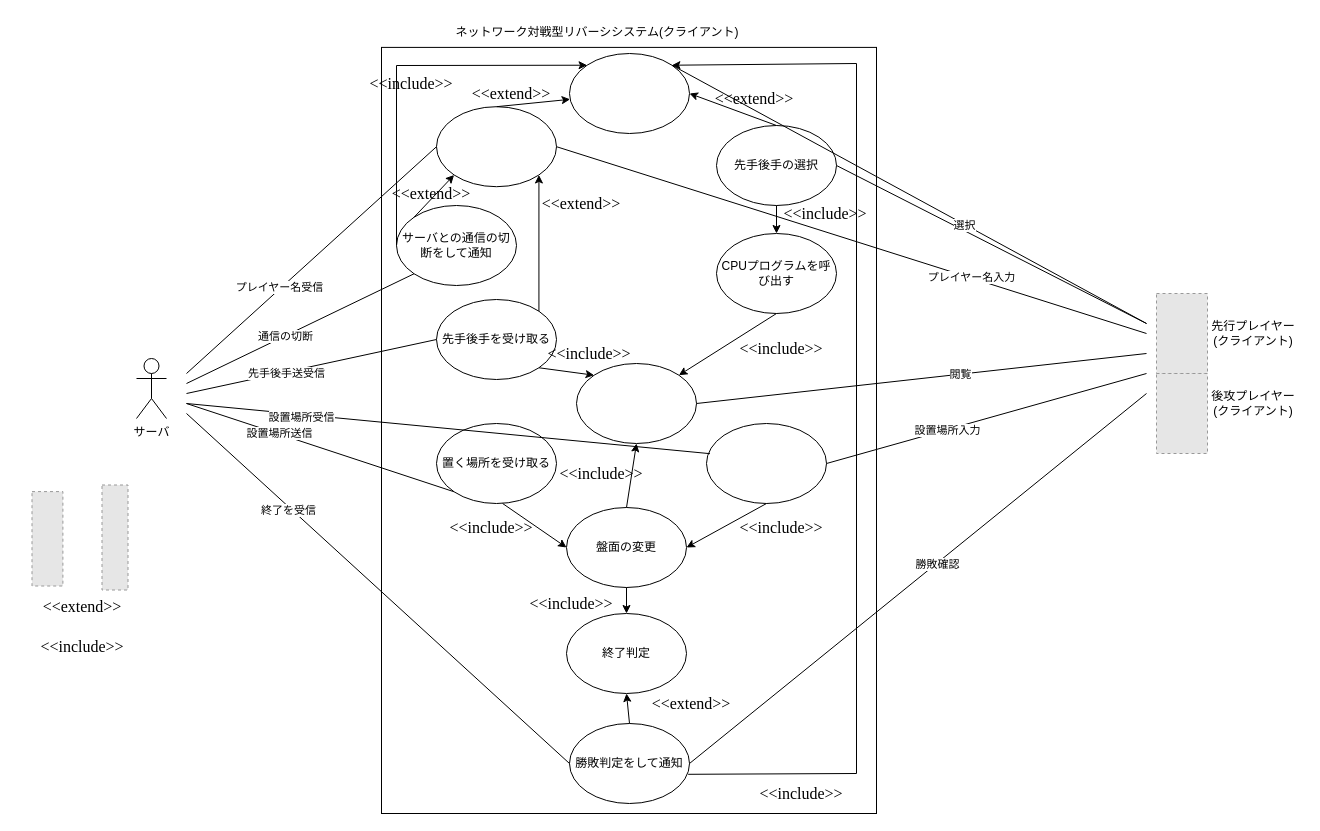
Image size: 1320x831. Some labels were removed from this diagram. Grey dashed boxes stand in for pictures. Each missing label, with the box of its shape:
プレイヤー名入力してログイン(サーバ接続): (436, 106, 556, 187)
プレイ方法の選択: (568, 52, 690, 134)
盤面の表示: (576, 362, 696, 444)
置く場所の入力: (706, 422, 826, 504)
